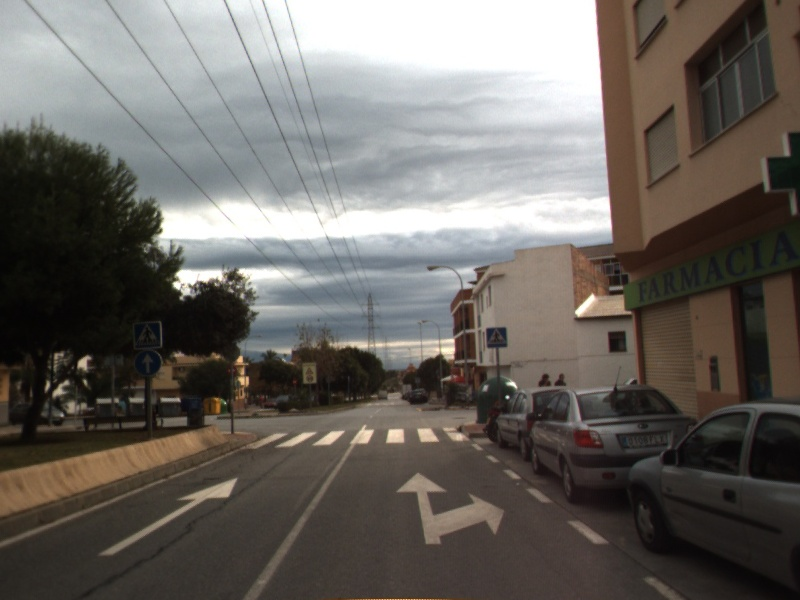STRAIGHT: (95, 476, 239, 558)
STRAIGHT_RIGHT: (394, 470, 506, 546)
